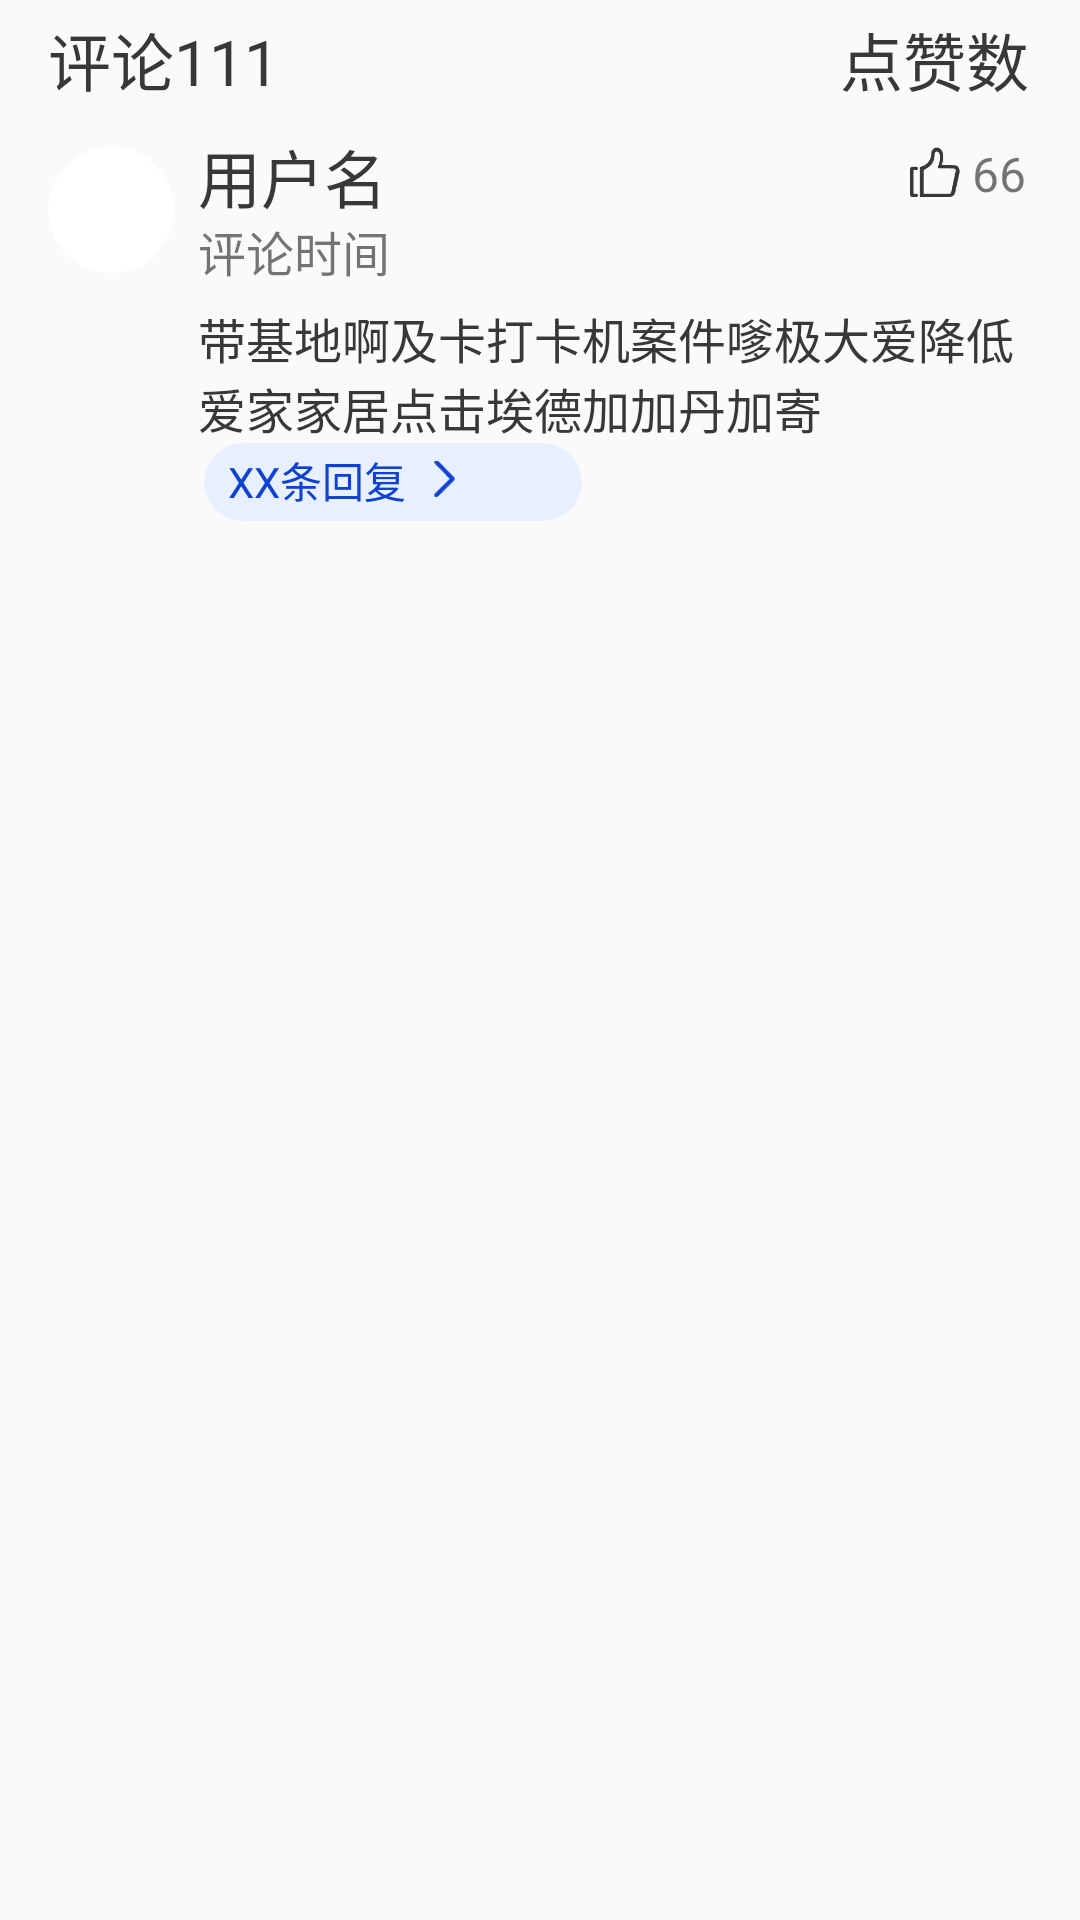

Locate icon controls on the screen. Image size 1080w x 1920h, boxes as Rect(x1, y1, x2, y2).
arrow right: Rect(434, 461, 455, 497)
like: Rect(910, 147, 960, 197)
